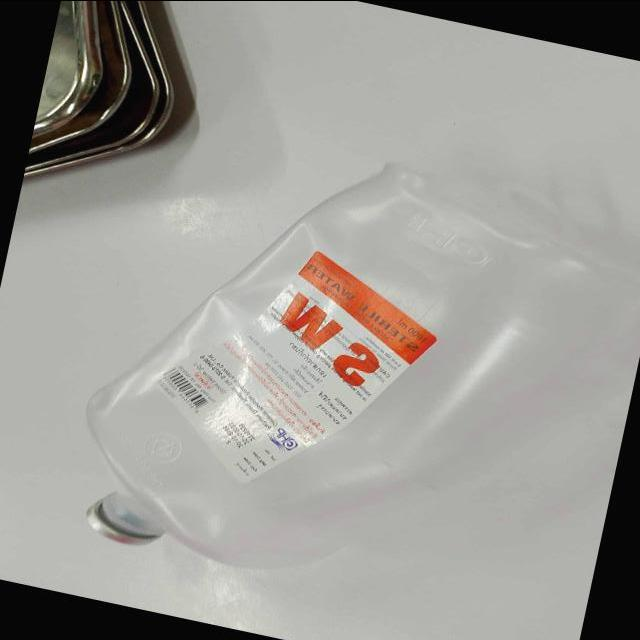General: (155, 248, 439, 486)
Infectious: (82, 161, 635, 571)
